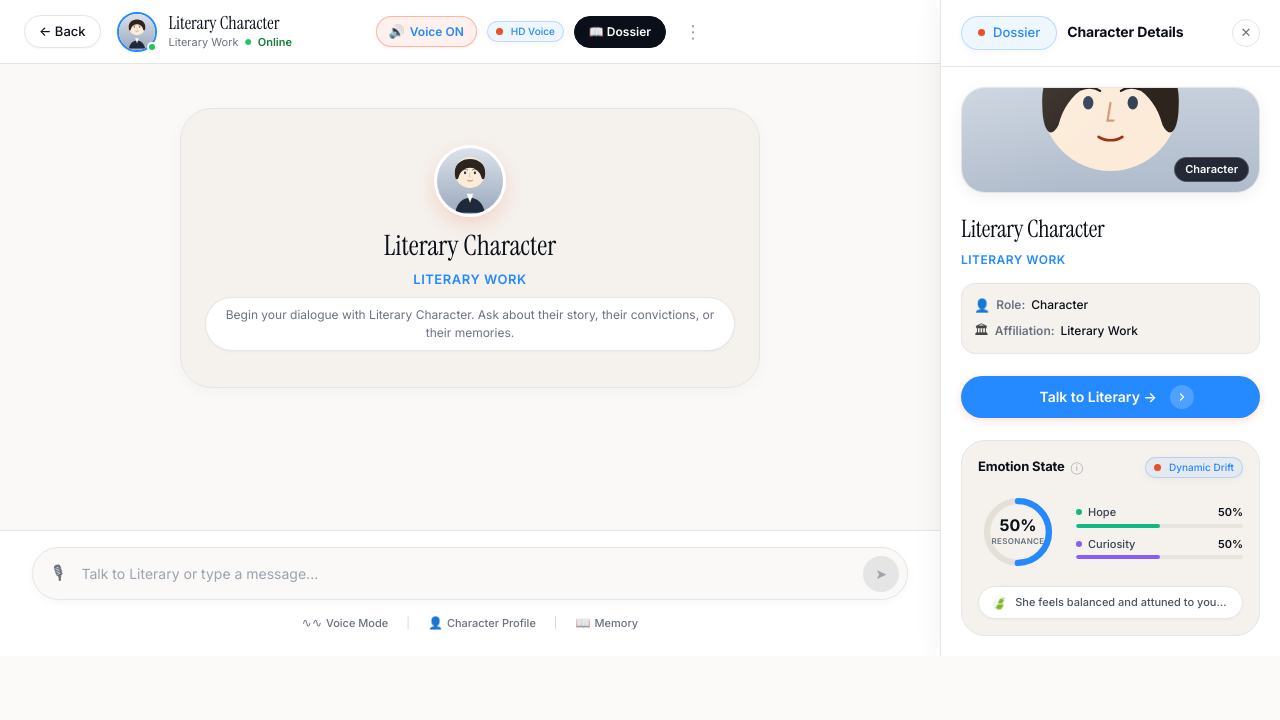
ChatScreen Component › toggles Character Details dossier drawer when dossier button is clicked
Expected: the element with test id "character-details-drawer" is shown, 940,0 -> 1279,656
// Click Dossier button to collapse
Click the button with aria-label "Close dossier drawer": (620, 32) 574,16 -> 666,48
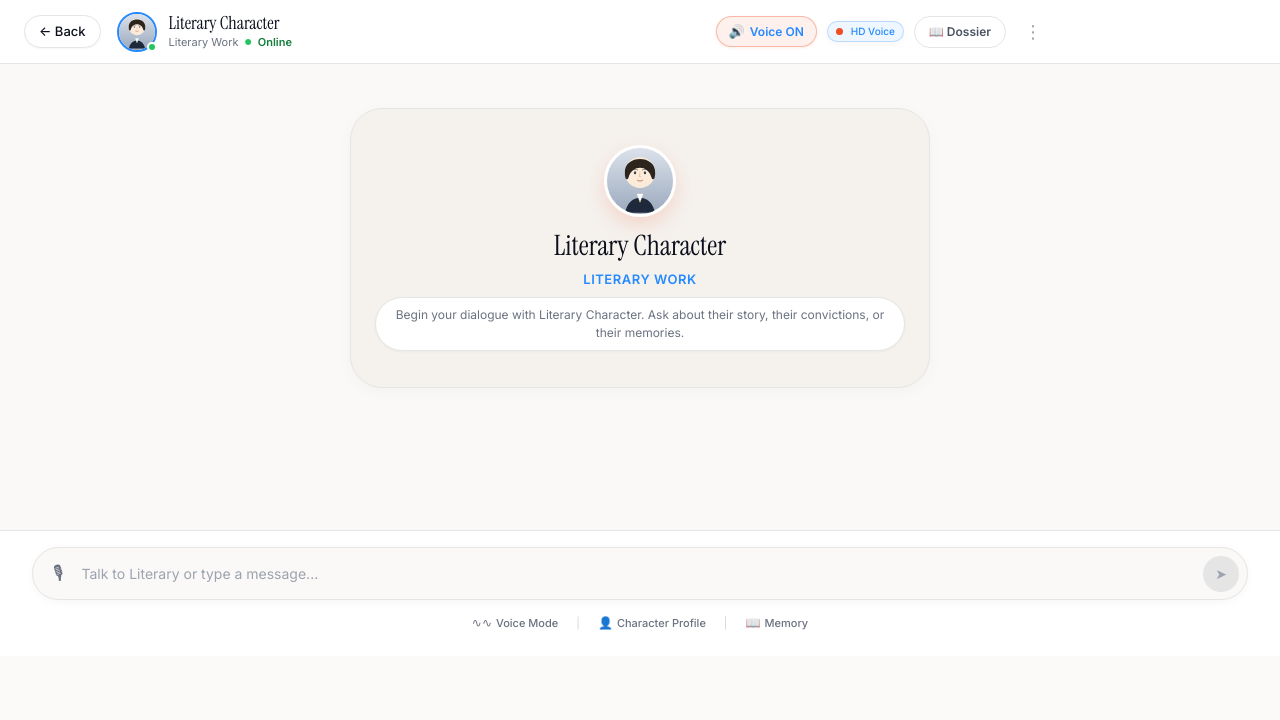
Now the element with test id "character-details-drawer" is gone
// Click again to reopen
Click the button with aria-label "Open dossier drawer": (960, 32) 914,16 -> 1006,48
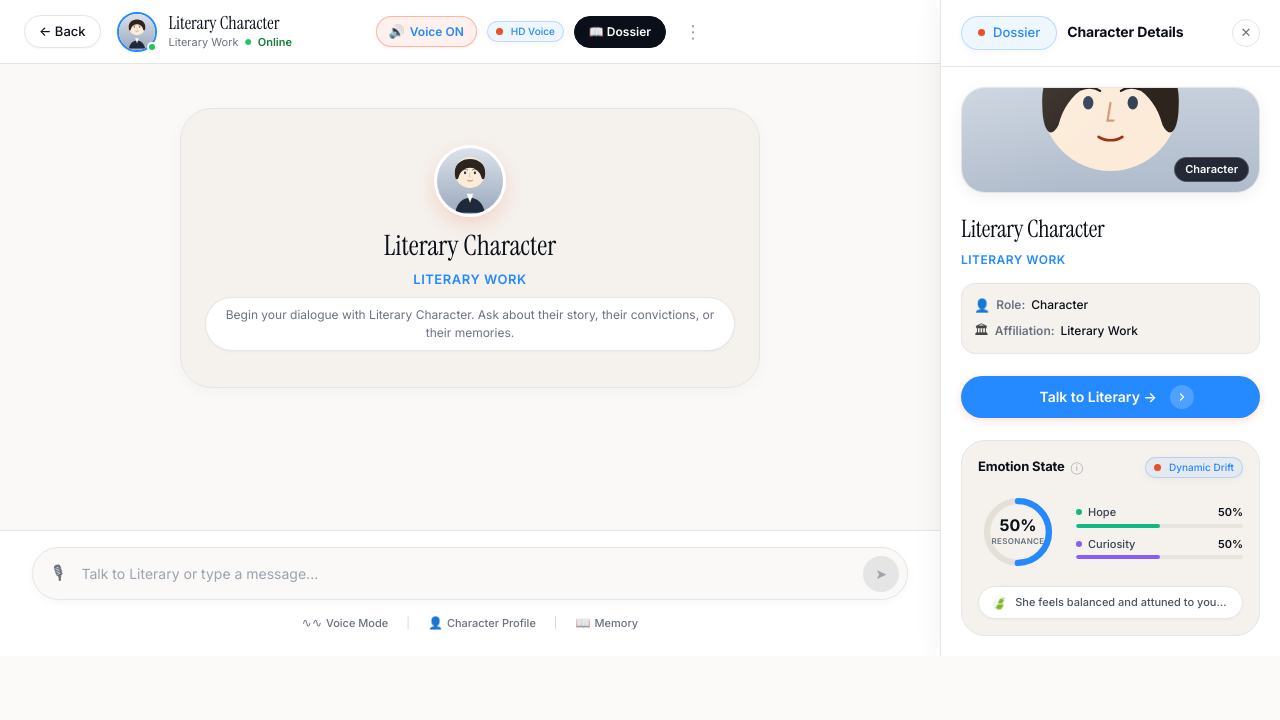
Now the element with test id "character-details-drawer" is shown, box 940,0 -> 1279,656
